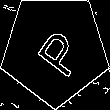P_NW: (26, 20, 84, 79)
